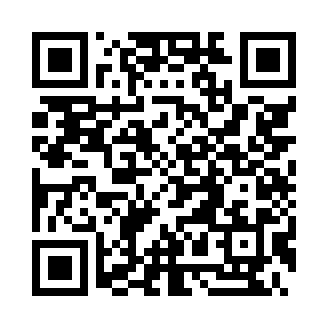QR_CODE: (20, 22, 303, 301)
